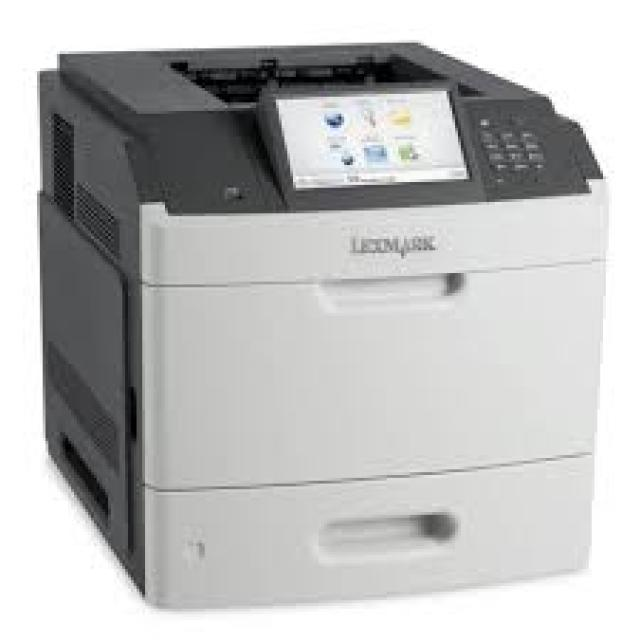printer: (34, 37, 609, 609)
